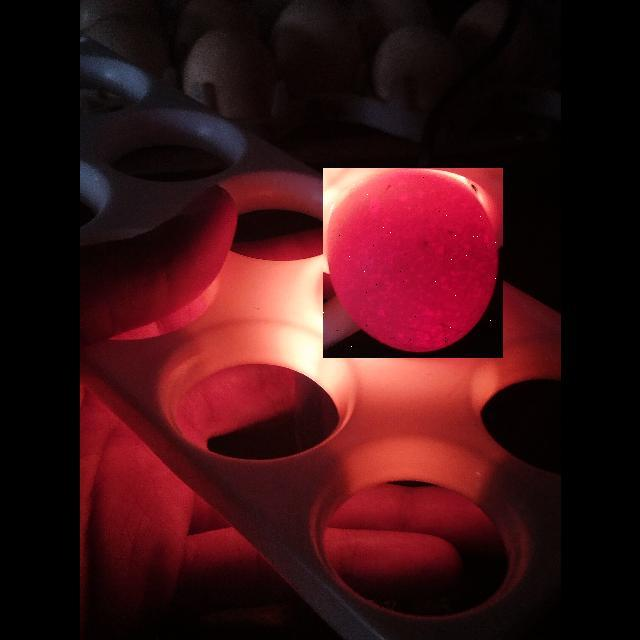Infertile: (323, 168, 503, 358)
